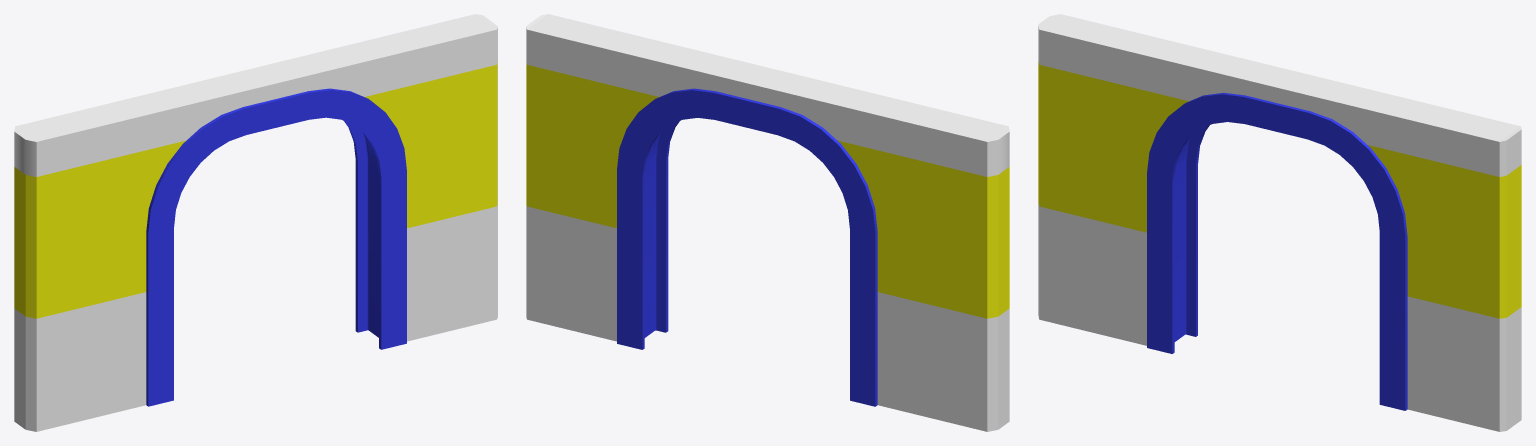
The model's file is Institute_WallDoor_Final.FBX.
The picture shows the model from 3 angles, left to right: view 1: azimuth 30°, elevation 25°; view 2: azimuth 150°, elevation 25°; view 3: azimuth 330°, elevation 25°; orthographic projection.
Parts seen in each view (by area): view 1: Muro_Puerta; view 2: Muro_Puerta; view 3: Muro_Puerta.
Boxes of the visible parts, box(x1,y1,x2,y2) form: Muro_Puerta: box(14, 14, 497, 431); Muro_Puerta: box(526, 14, 1009, 431); Muro_Puerta: box(1038, 14, 1521, 431).
Bounding box in the file's own units: 608 × 359 × 57.47.
